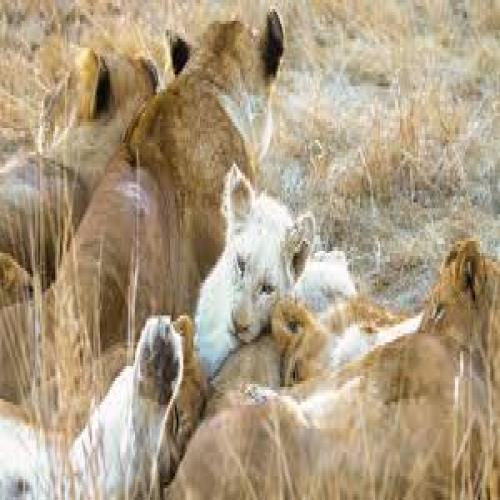lion-endangered: (5, 12, 286, 418), (180, 232, 496, 482), (194, 166, 384, 377), (0, 43, 157, 279), (55, 304, 208, 500)
